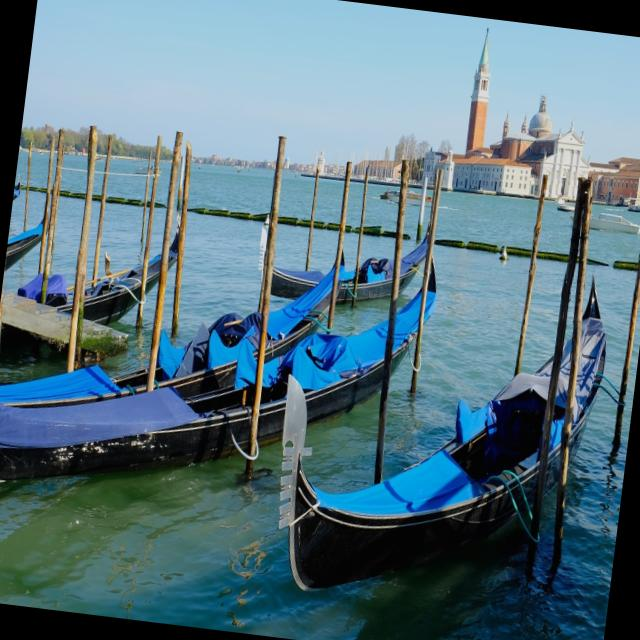boat: (0, 202, 445, 547), (260, 239, 625, 640)
